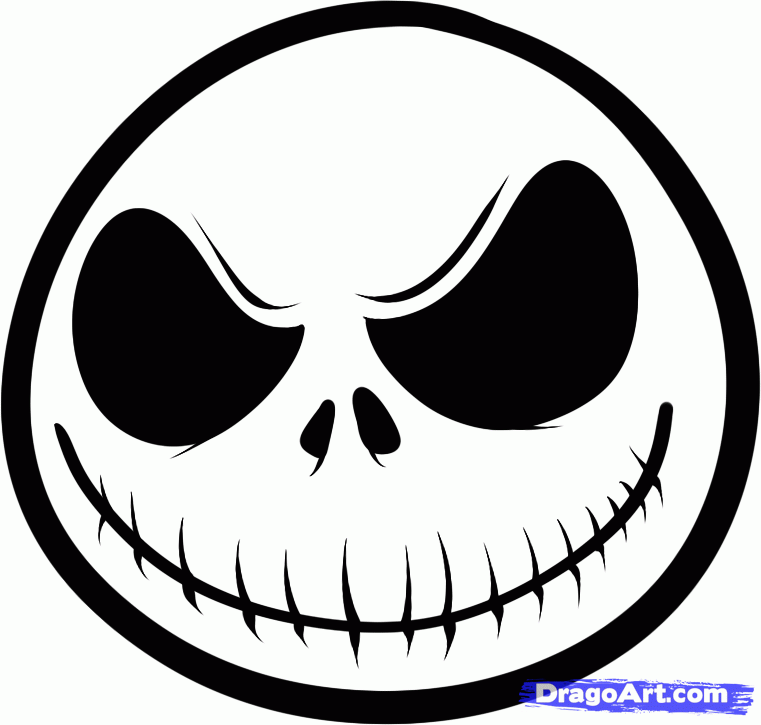Jack Skellington: (1, 1, 761, 725)
